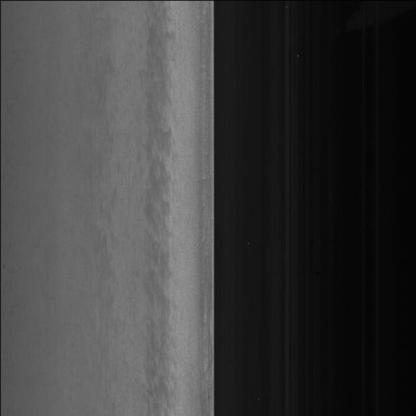silk_spot: (132, 132, 184, 246)
